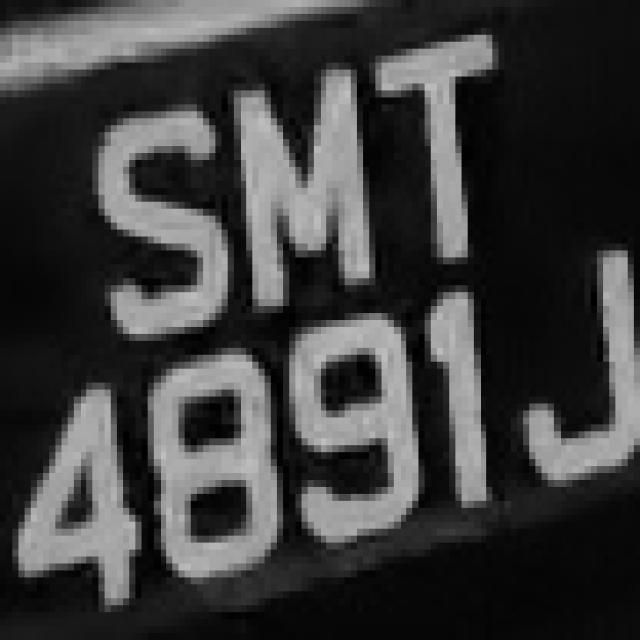1: (412, 244, 505, 536)
4: (0, 4, 2, 7)
8: (129, 348, 283, 591)
9: (277, 292, 437, 571)
J: (5, 2, 6, 6)
M: (215, 77, 394, 320)
S: (74, 97, 252, 348)
T: (363, 14, 523, 264)
